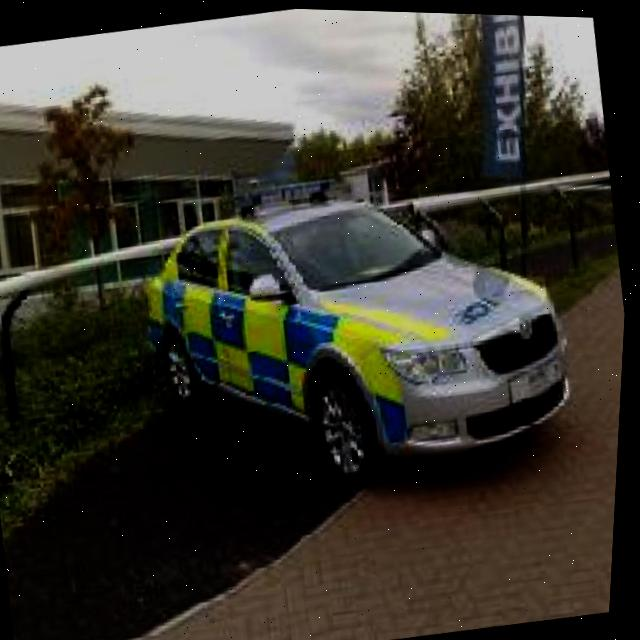emergency: (119, 154, 598, 522)
